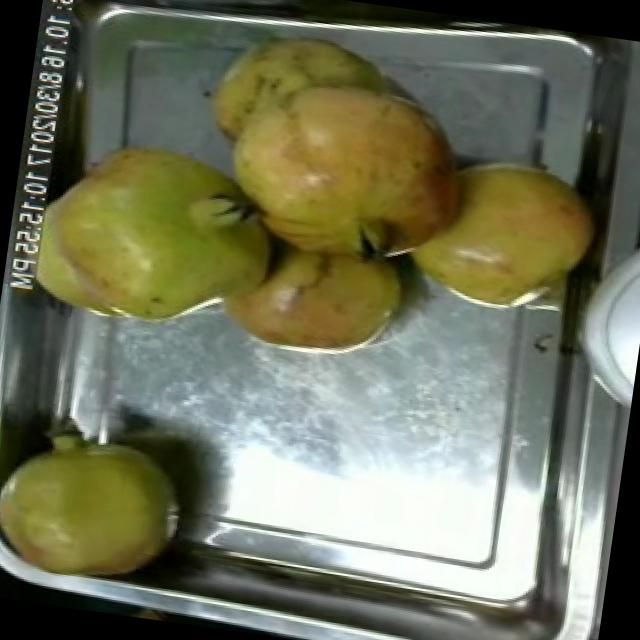fruit: (0, 111, 242, 353), (296, 60, 500, 285), (402, 127, 616, 336), (0, 401, 207, 609)
